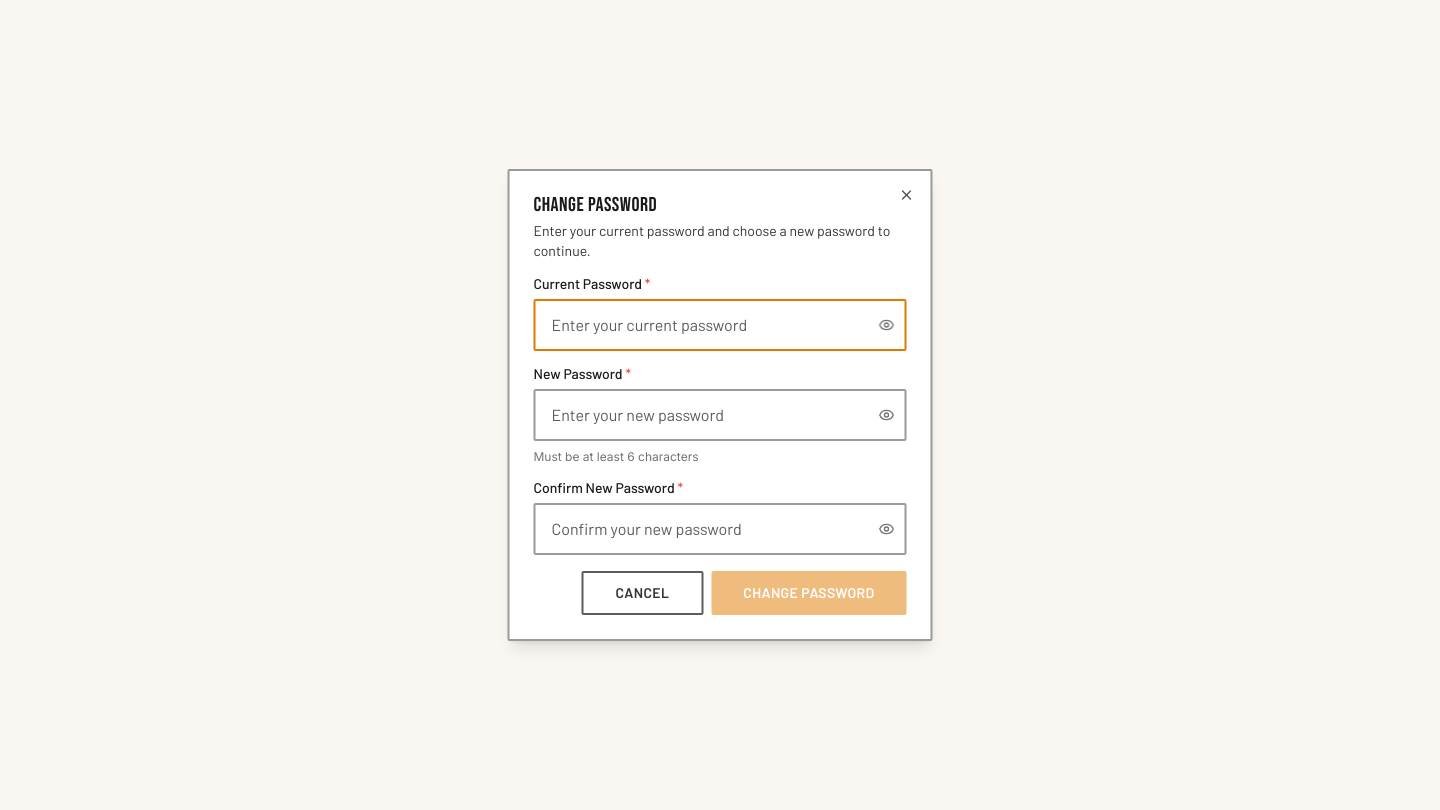
Test: PasswordChangeForm › Form Validation › should require new password to be different from current
The image size is (1440, 810).
Type "samepassword" into the password field labelled "Current Password *" at (720, 325), box x1=534 y1=299 x2=906 y2=351
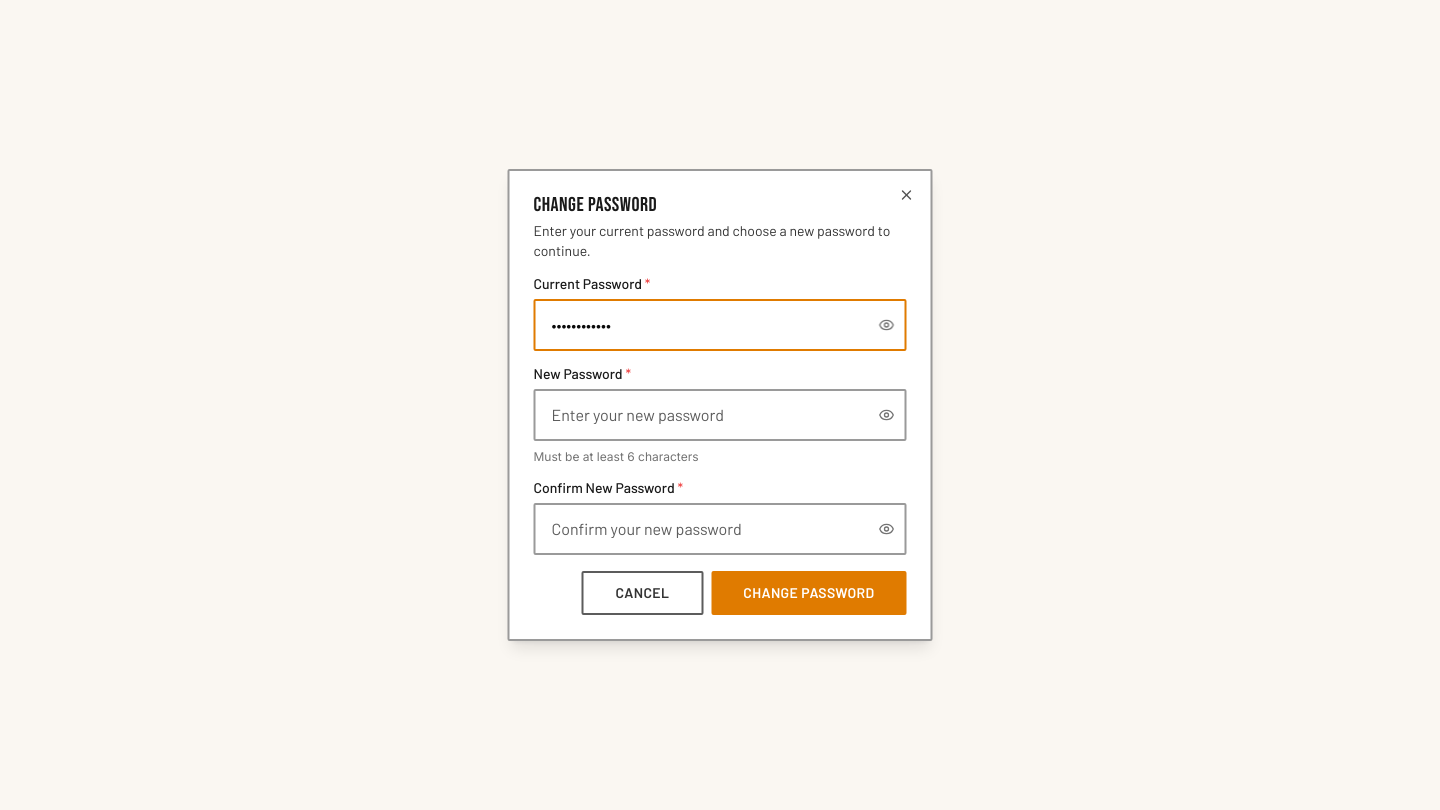
Type "samepassword" into the password field labelled "New Password *" at (720, 415), box x1=534 y1=389 x2=906 y2=441
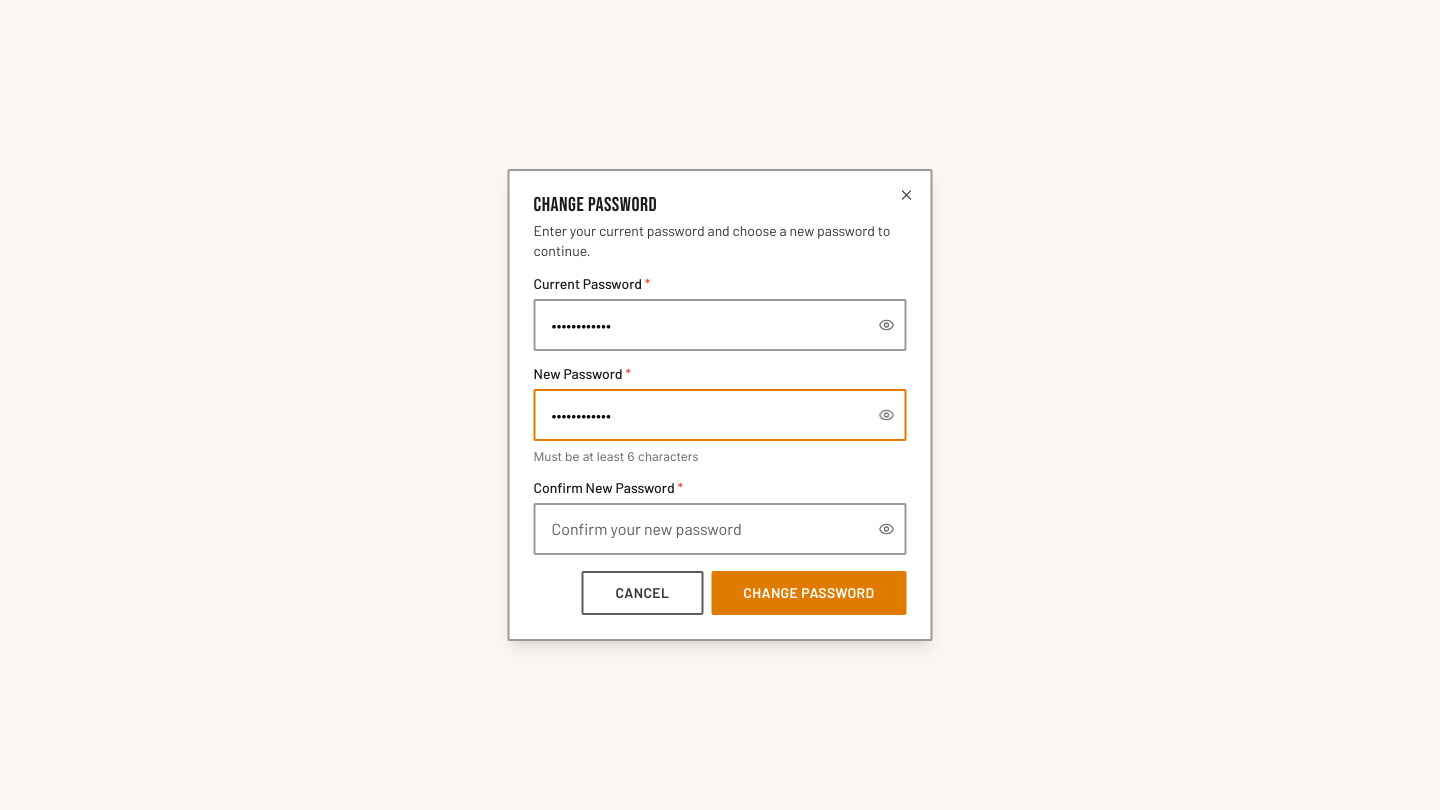
Type "samepassword" into the password field labelled "Confirm New Password *" at (720, 529), box x1=534 y1=503 x2=906 y2=555
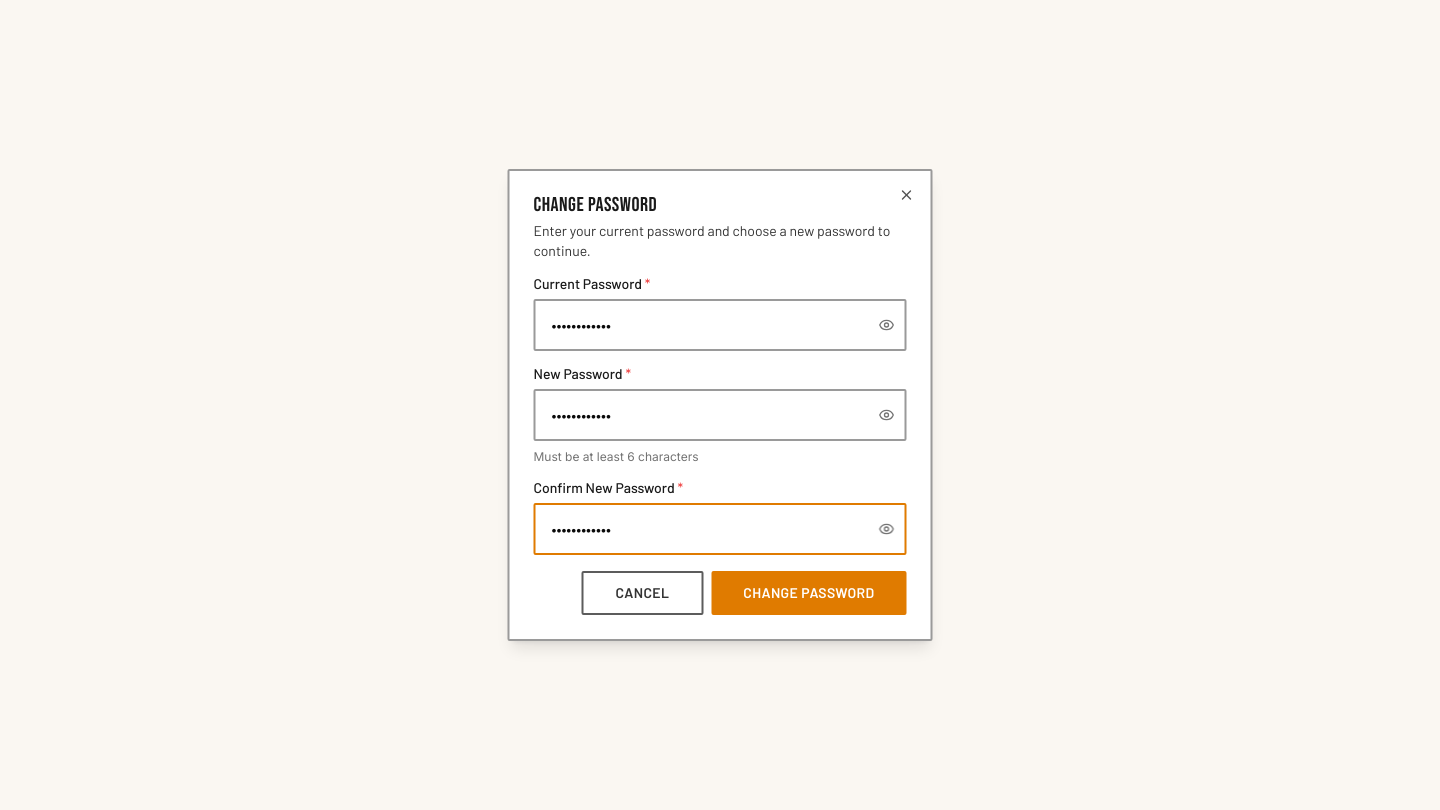
Click the button "Change Password" at (809, 593), box x1=711 y1=571 x2=906 y2=615
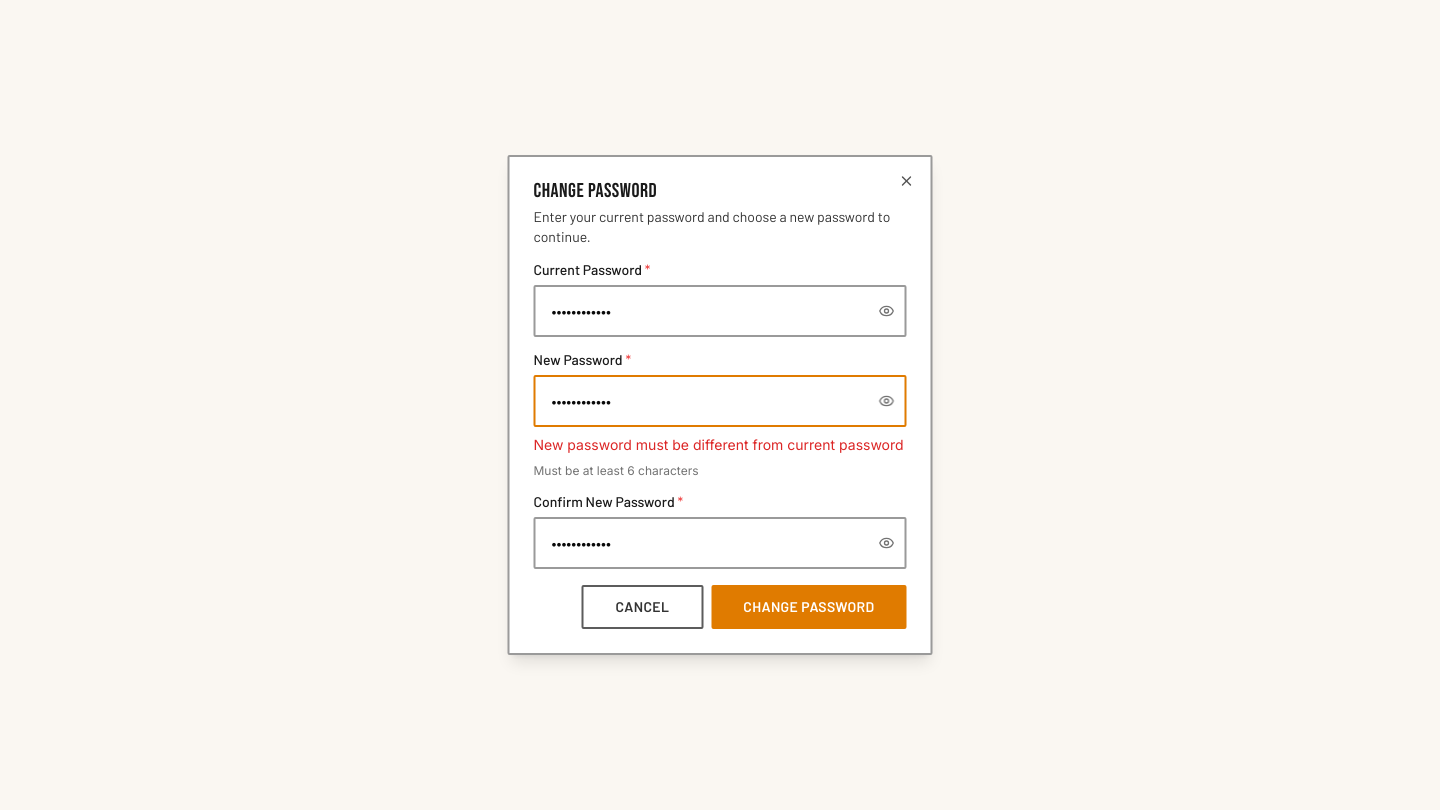
Expected: the text "New password must be different from current password" is shown, x1=534 y1=435 x2=906 y2=455
